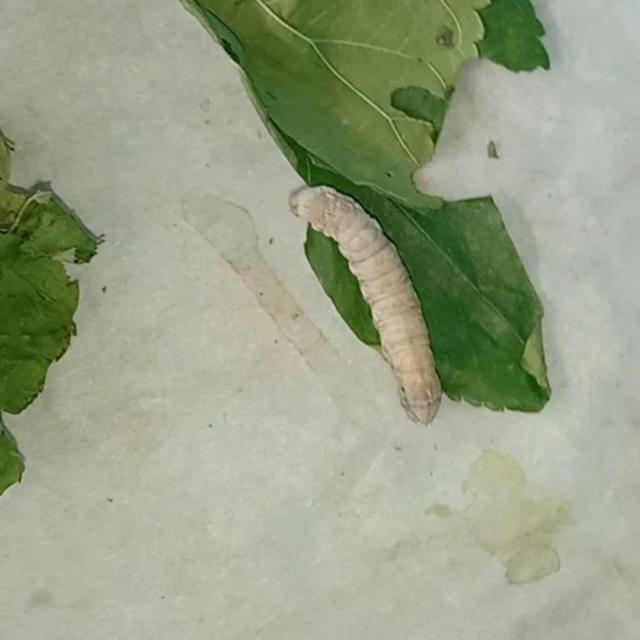Grasserie: (279, 178, 452, 428)
